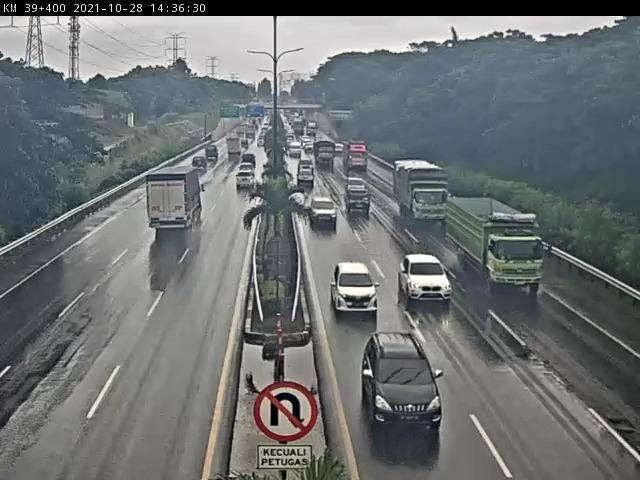car: (361, 327, 446, 433), (396, 252, 455, 306), (331, 265, 380, 314), (312, 200, 343, 228), (347, 188, 373, 212), (233, 171, 257, 195), (298, 169, 317, 189), (192, 154, 210, 173), (344, 177, 364, 194), (240, 153, 259, 170), (238, 162, 257, 177)
truck: (444, 196, 551, 295), (394, 163, 453, 228), (147, 173, 205, 234)
